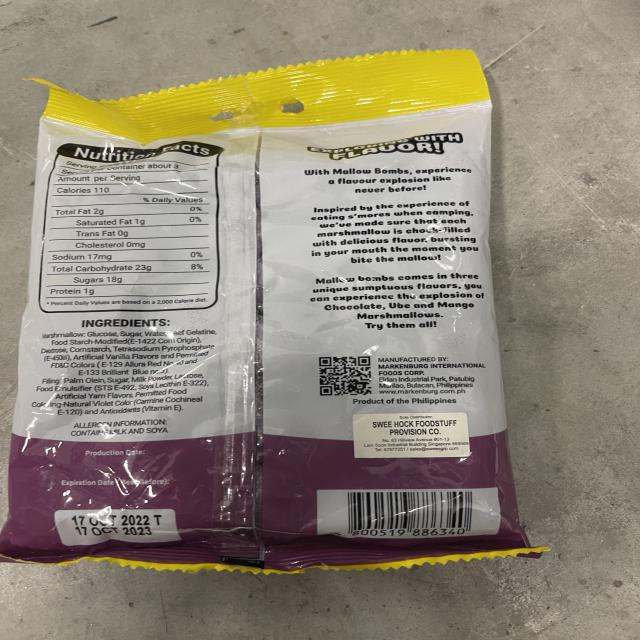object_name: (32, 94, 499, 553)
